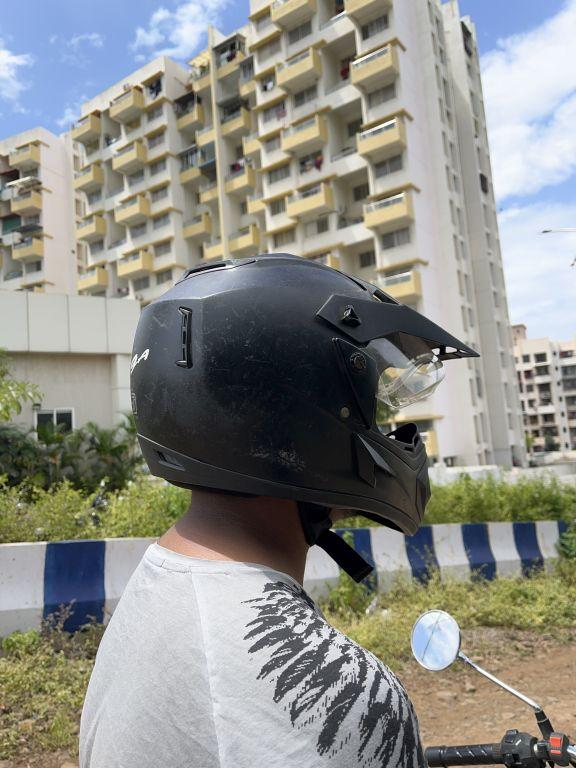helmet: (124, 242, 486, 551)
